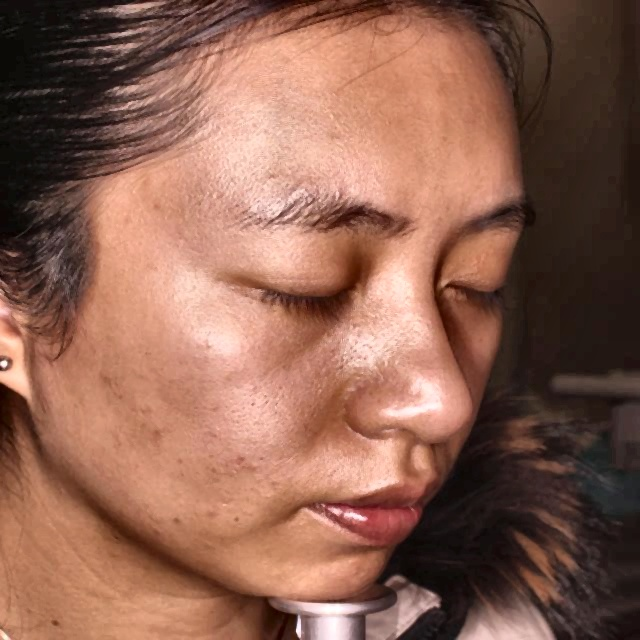comedone: (229, 451, 268, 479), (142, 421, 177, 444)
